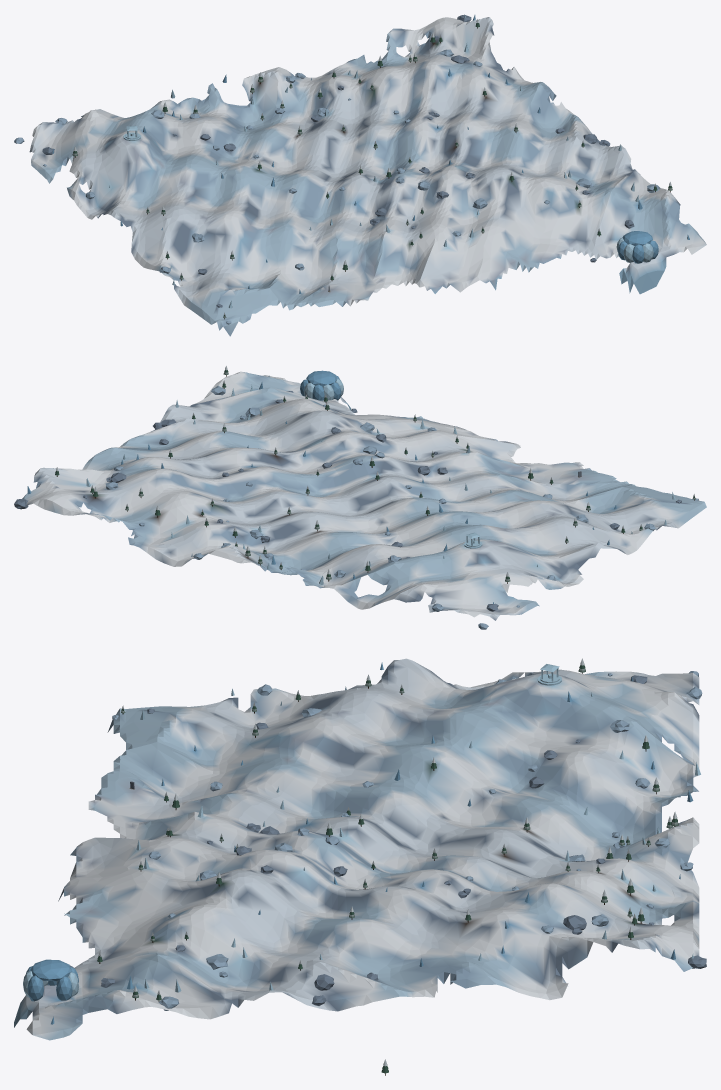
Rendered from frost_isl_aurora_arch_lod1.glb.
3 renders of one model, top to bottom at view 1: azimuth 30°, elevation 25°; view 2: azimuth 150°, elevation 25°; view 3: azimuth 270°, elevation 25°, orthographic. The views are drawn at different scales.
Parts seen in each view (by area): view 1: geometry_0; view 2: geometry_0; view 3: geometry_0.
Part boxes in pixels (x1,y1,x2,y2): geometry_0: (14, 14, 706, 336); geometry_0: (14, 366, 706, 629); geometry_0: (14, 658, 706, 1075).
Bounding box in the file's own units: 242 × 50.39 × 222.
